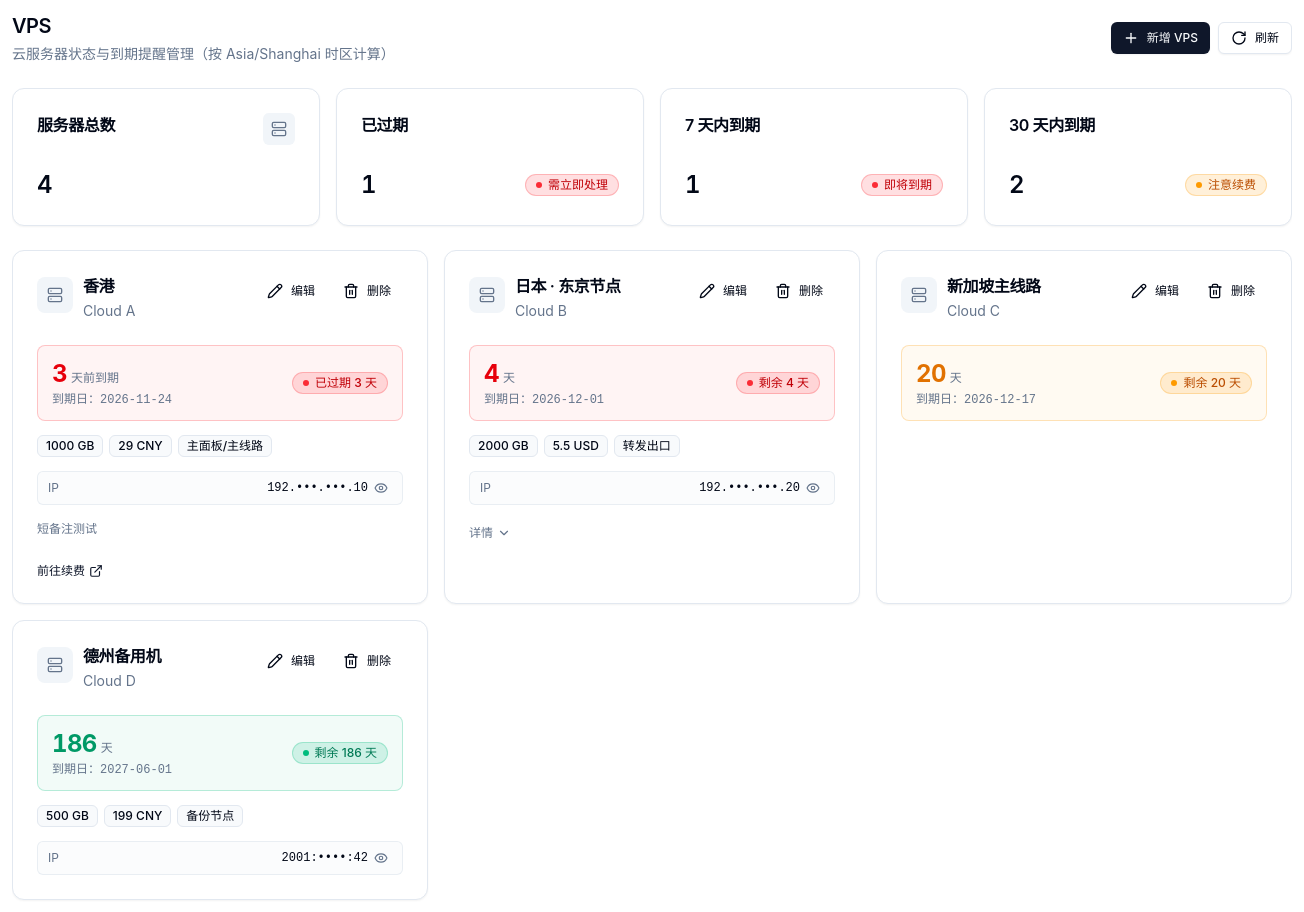
Scenario: VpsPage VPS 卡片页 › 短备注直接展示，长备注默认折叠并通过「详情」展开与收起
The image size is (1304, 912).
Expected: the text "短备注测试" is shown, left=37, top=521, right=97, bottom=536
Expected: the text "这是一段非常长的服务器备注信息，用来测试卡片上的备注折叠与详情展开交互是否正常工作，避免卡片过长影响扫读体验。" is not shown
Click the button "详情". click: (490,533)
box: left=469, top=525, right=511, bottom=541
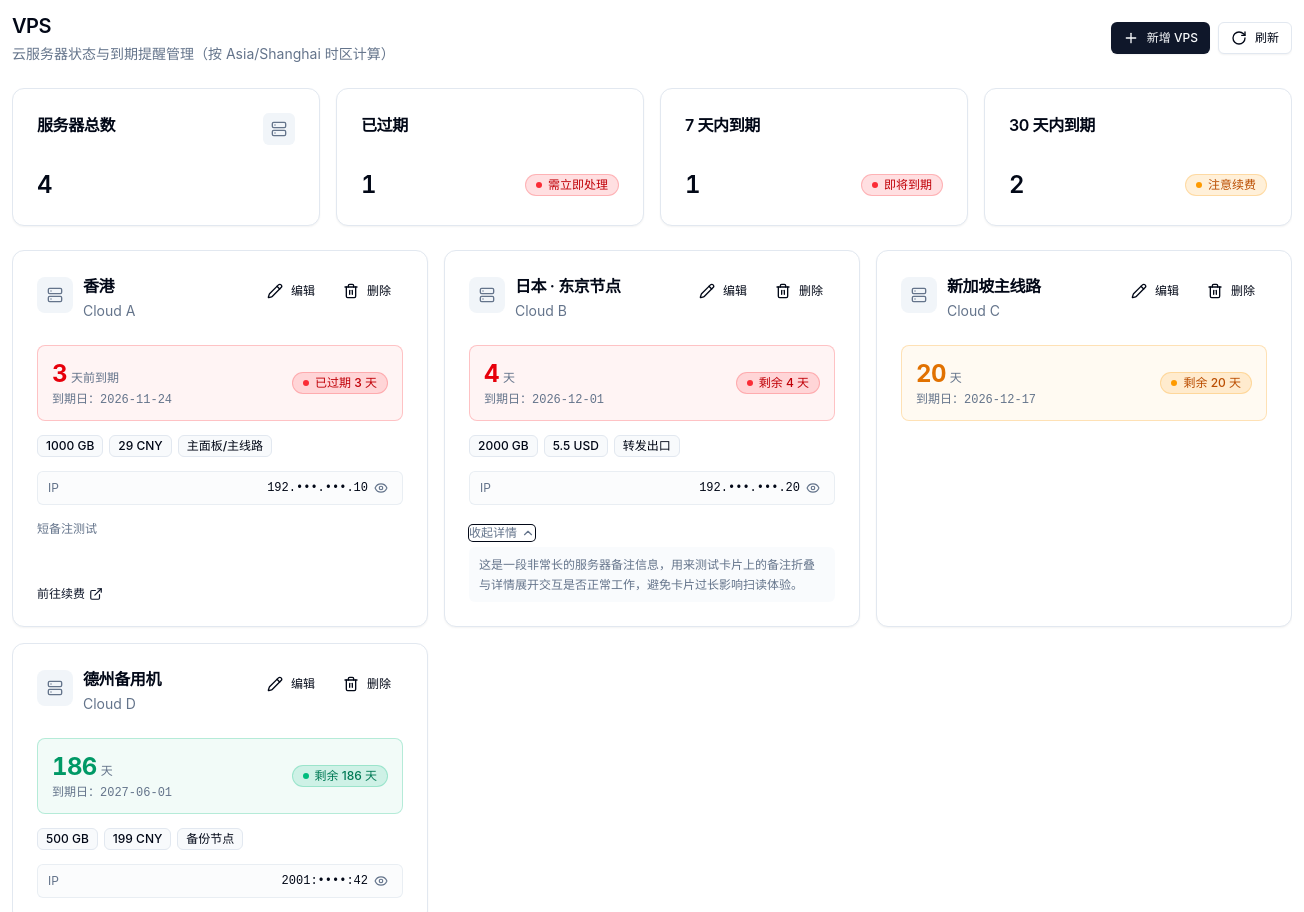
Result: the text "这是一段非常长的服务器备注信息，用来测试卡片上的备注折叠与详情展开交互是否正常工作，避免卡片过长影响扫读体验。" is shown at left=469, top=547, right=835, bottom=602
Result: the button "收起详情" is expanded
Click the button "收起详情". click: (502,533)
box: left=469, top=525, right=535, bottom=541
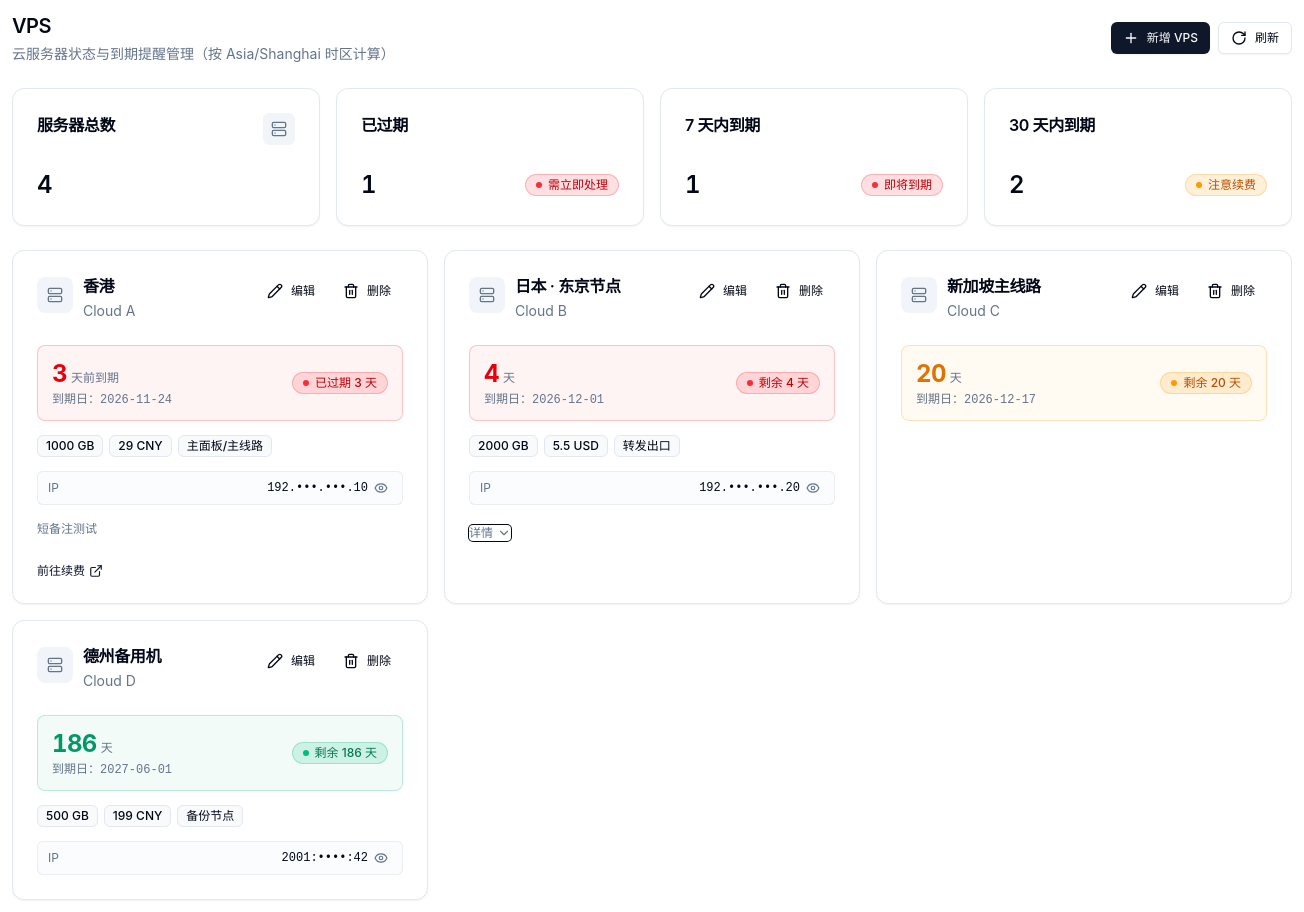
Result: the text "这是一段非常长的服务器备注信息，用来测试卡片上的备注折叠与详情展开交互是否正常工作，避免卡片过长影响扫读体验。" is gone
